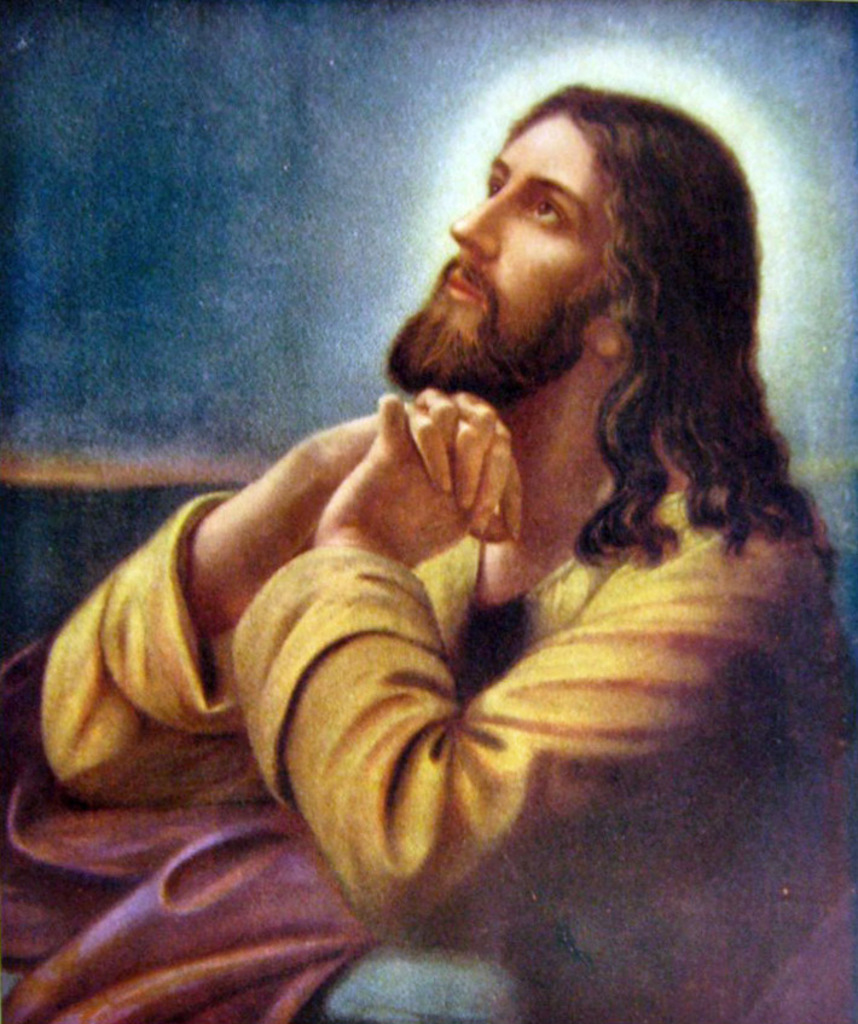Human-face: (396, 110, 618, 392)
